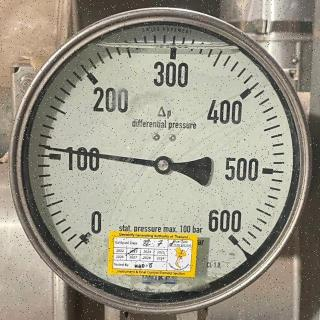gauge: (10, 1, 310, 319), (208, 211, 252, 257), (72, 218, 100, 250), (154, 154, 174, 175), (36, 140, 54, 153)
